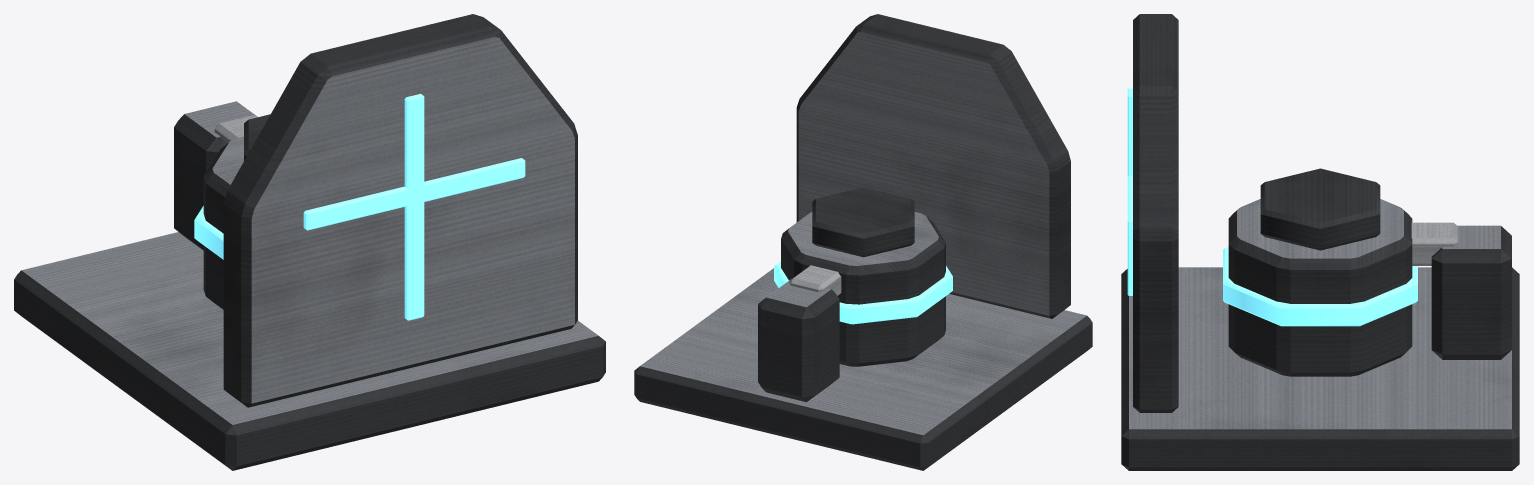
File: R4X_DefensiveTurretDeployer_LOD1.glb
3 renders of one model, left to right at view 1: azimuth 30°, elevation 25°; view 2: azimuth 150°, elevation 25°; view 3: azimuth 270°, elevation 25°, orthographic. The views are drawn at different scales.
Visible parts, largest first — view 1: R4X_DefensiveTurretDeployer_LOD1; view 2: R4X_DefensiveTurretDeployer_LOD1; view 3: R4X_DefensiveTurretDeployer_LOD1.
Part boxes in pixels (<box>): R4X_DefensiveTurretDeployer_LOD1: <box>14,14,605,470</box>; R4X_DefensiveTurretDeployer_LOD1: <box>634,14,1092,470</box>; R4X_DefensiveTurretDeployer_LOD1: <box>1121,14,1519,470</box>.
Size of the model in its own units: 0.52 by 0.49 by 0.52.
4 materials, 3 textured.
